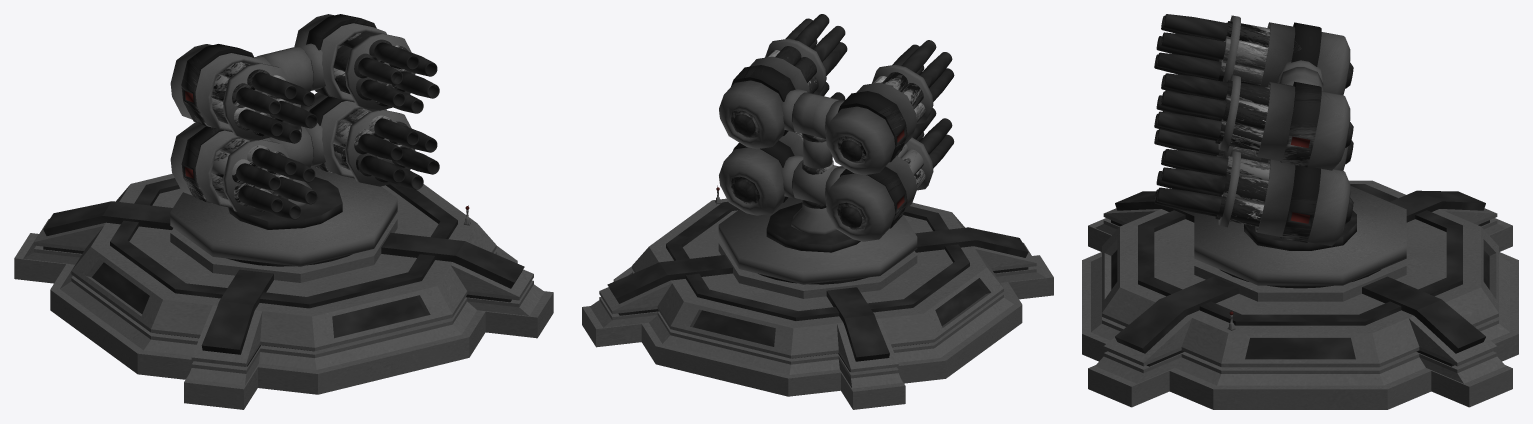
Rendered from Turret.glb.
The picture shows the model from 3 angles, left to right: view 1: azimuth 30°, elevation 25°; view 2: azimuth 150°, elevation 25°; view 3: azimuth 270°, elevation 25°; orthographic projection. The views are drawn at different scales.
Parts seen in each view (by area): view 1: TurretBase, TurrentCenter; view 2: TurretBase, TurrentCenter; view 3: TurretBase, TurrentCenter.
Boxes of the visible parts, x1=… form: TurretBase: x1=14, y1=173, x2=553, y2=409; TurrentCenter: x1=170, y1=14, x2=439, y2=266; TurretBase: x1=582, y1=185, x2=1053, y2=409; TurrentCenter: x1=718, y1=14, x2=954, y2=284; TurretBase: x1=1082, y1=180, x2=1518, y2=409; TurrentCenter: x1=1154, y1=14, x2=1406, y2=288.
Bounding box in the file's own units: 1152 × 795 × 1152.
Materials: 5 (4 with a texture image).
